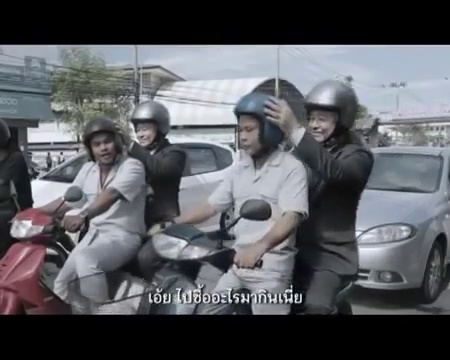helmet: (225, 80, 281, 149), (300, 70, 359, 130), (125, 95, 169, 143), (77, 114, 119, 159)
